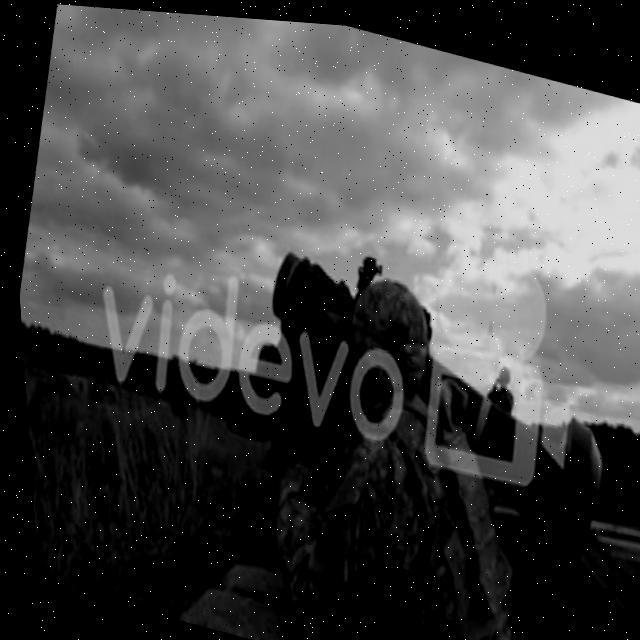rocket: (235, 231, 626, 566)
